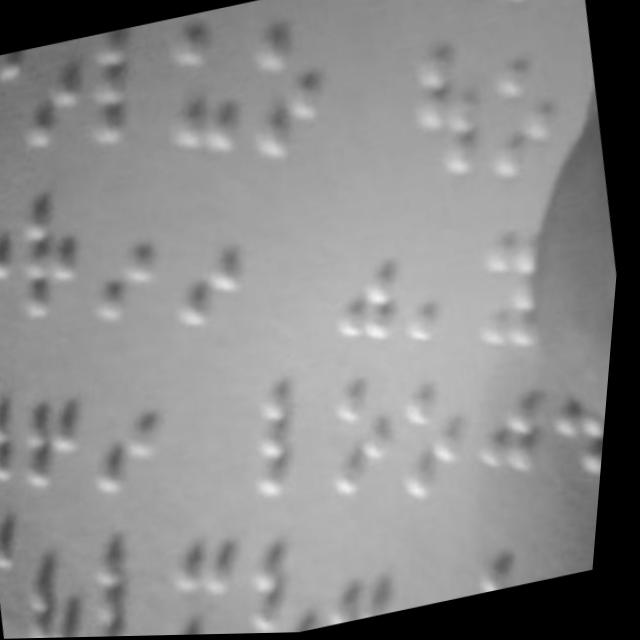braiile: (149, 10, 262, 177), (232, 14, 349, 169), (310, 212, 421, 364), (13, 355, 118, 512), (468, 40, 572, 198), (400, 36, 502, 197), (84, 362, 190, 515), (463, 221, 571, 371), (163, 205, 270, 351), (7, 184, 112, 328), (73, 23, 178, 166), (393, 375, 496, 518), (318, 372, 419, 514), (82, 205, 178, 343), (5, 38, 104, 167), (247, 381, 342, 515), (15, 528, 115, 639), (89, 534, 187, 638), (165, 537, 261, 636), (247, 541, 339, 635), (0, 175, 50, 336), (318, 546, 408, 630), (483, 551, 548, 596)
